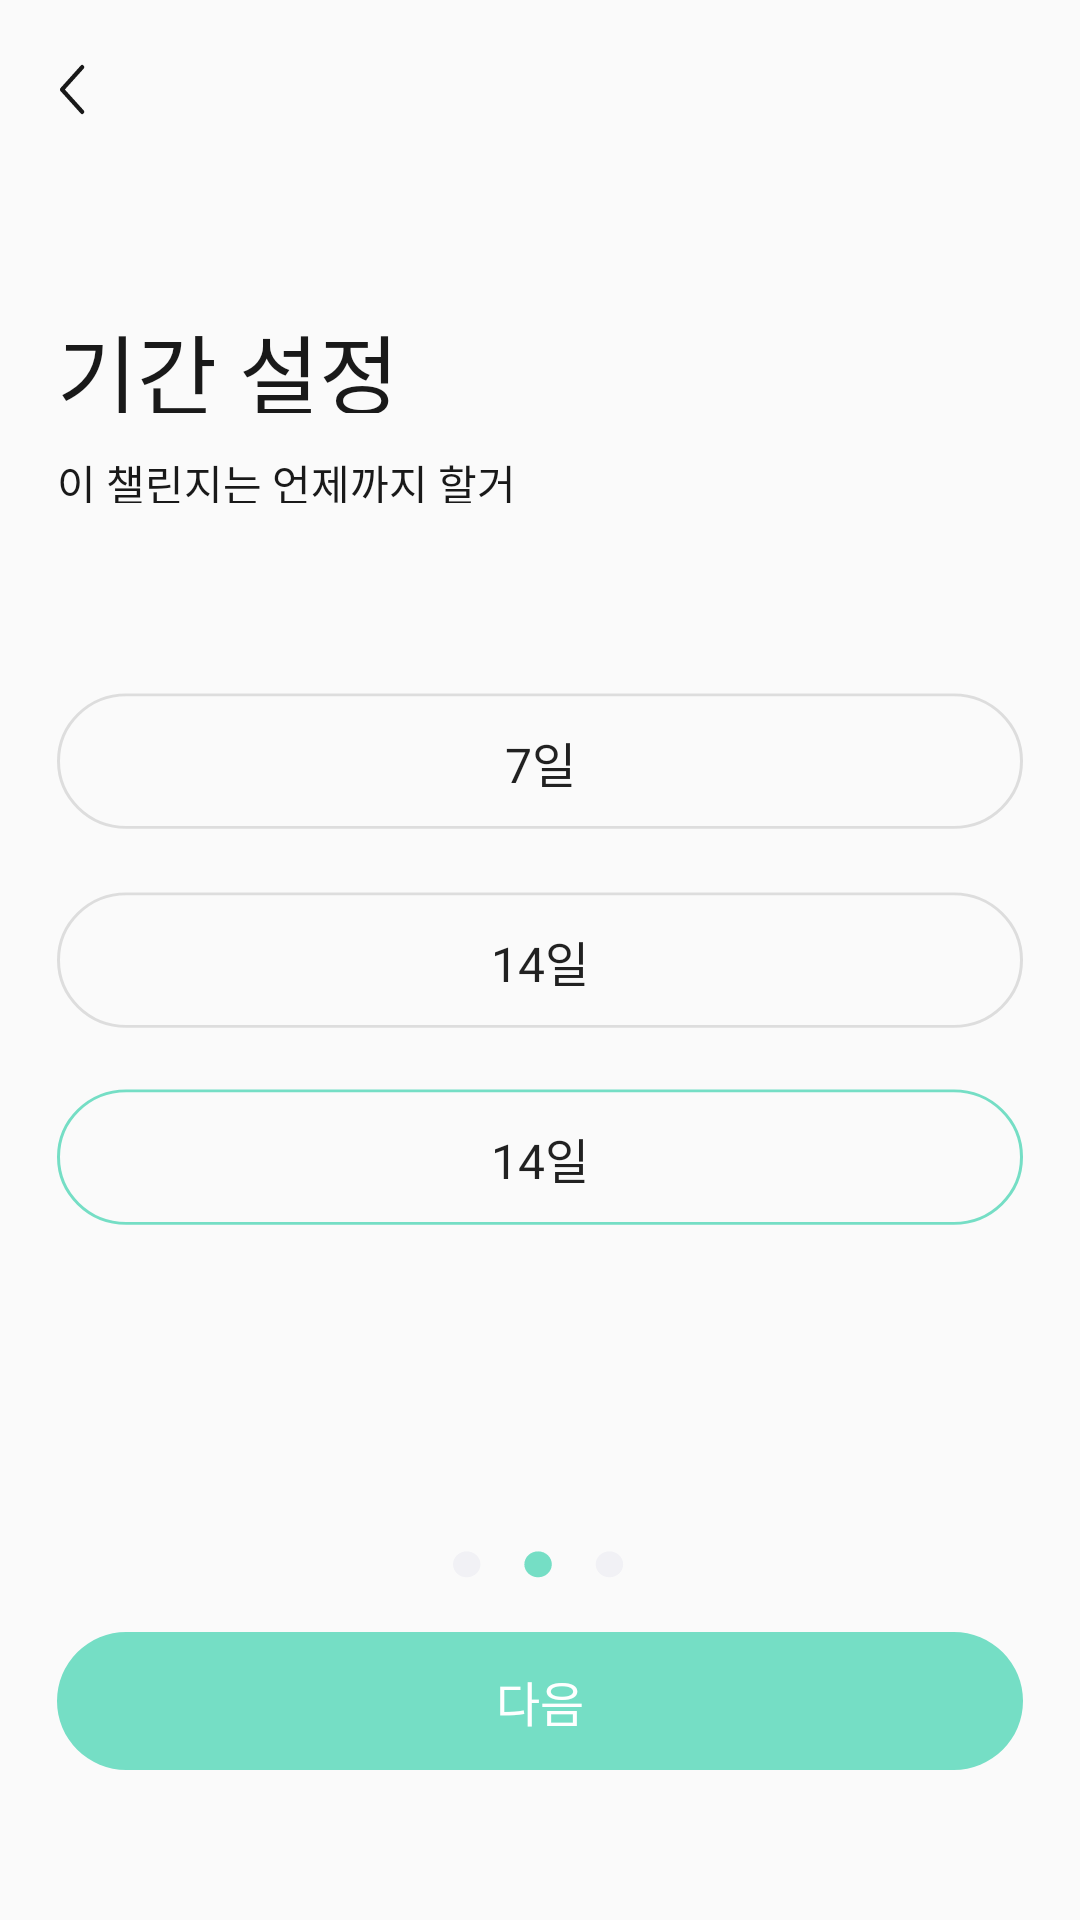

Icon bounding boxes for this 1080 × 1920 phone screenshot, format (x1, y1, x2, y2):
back: (60, 64, 85, 115)
